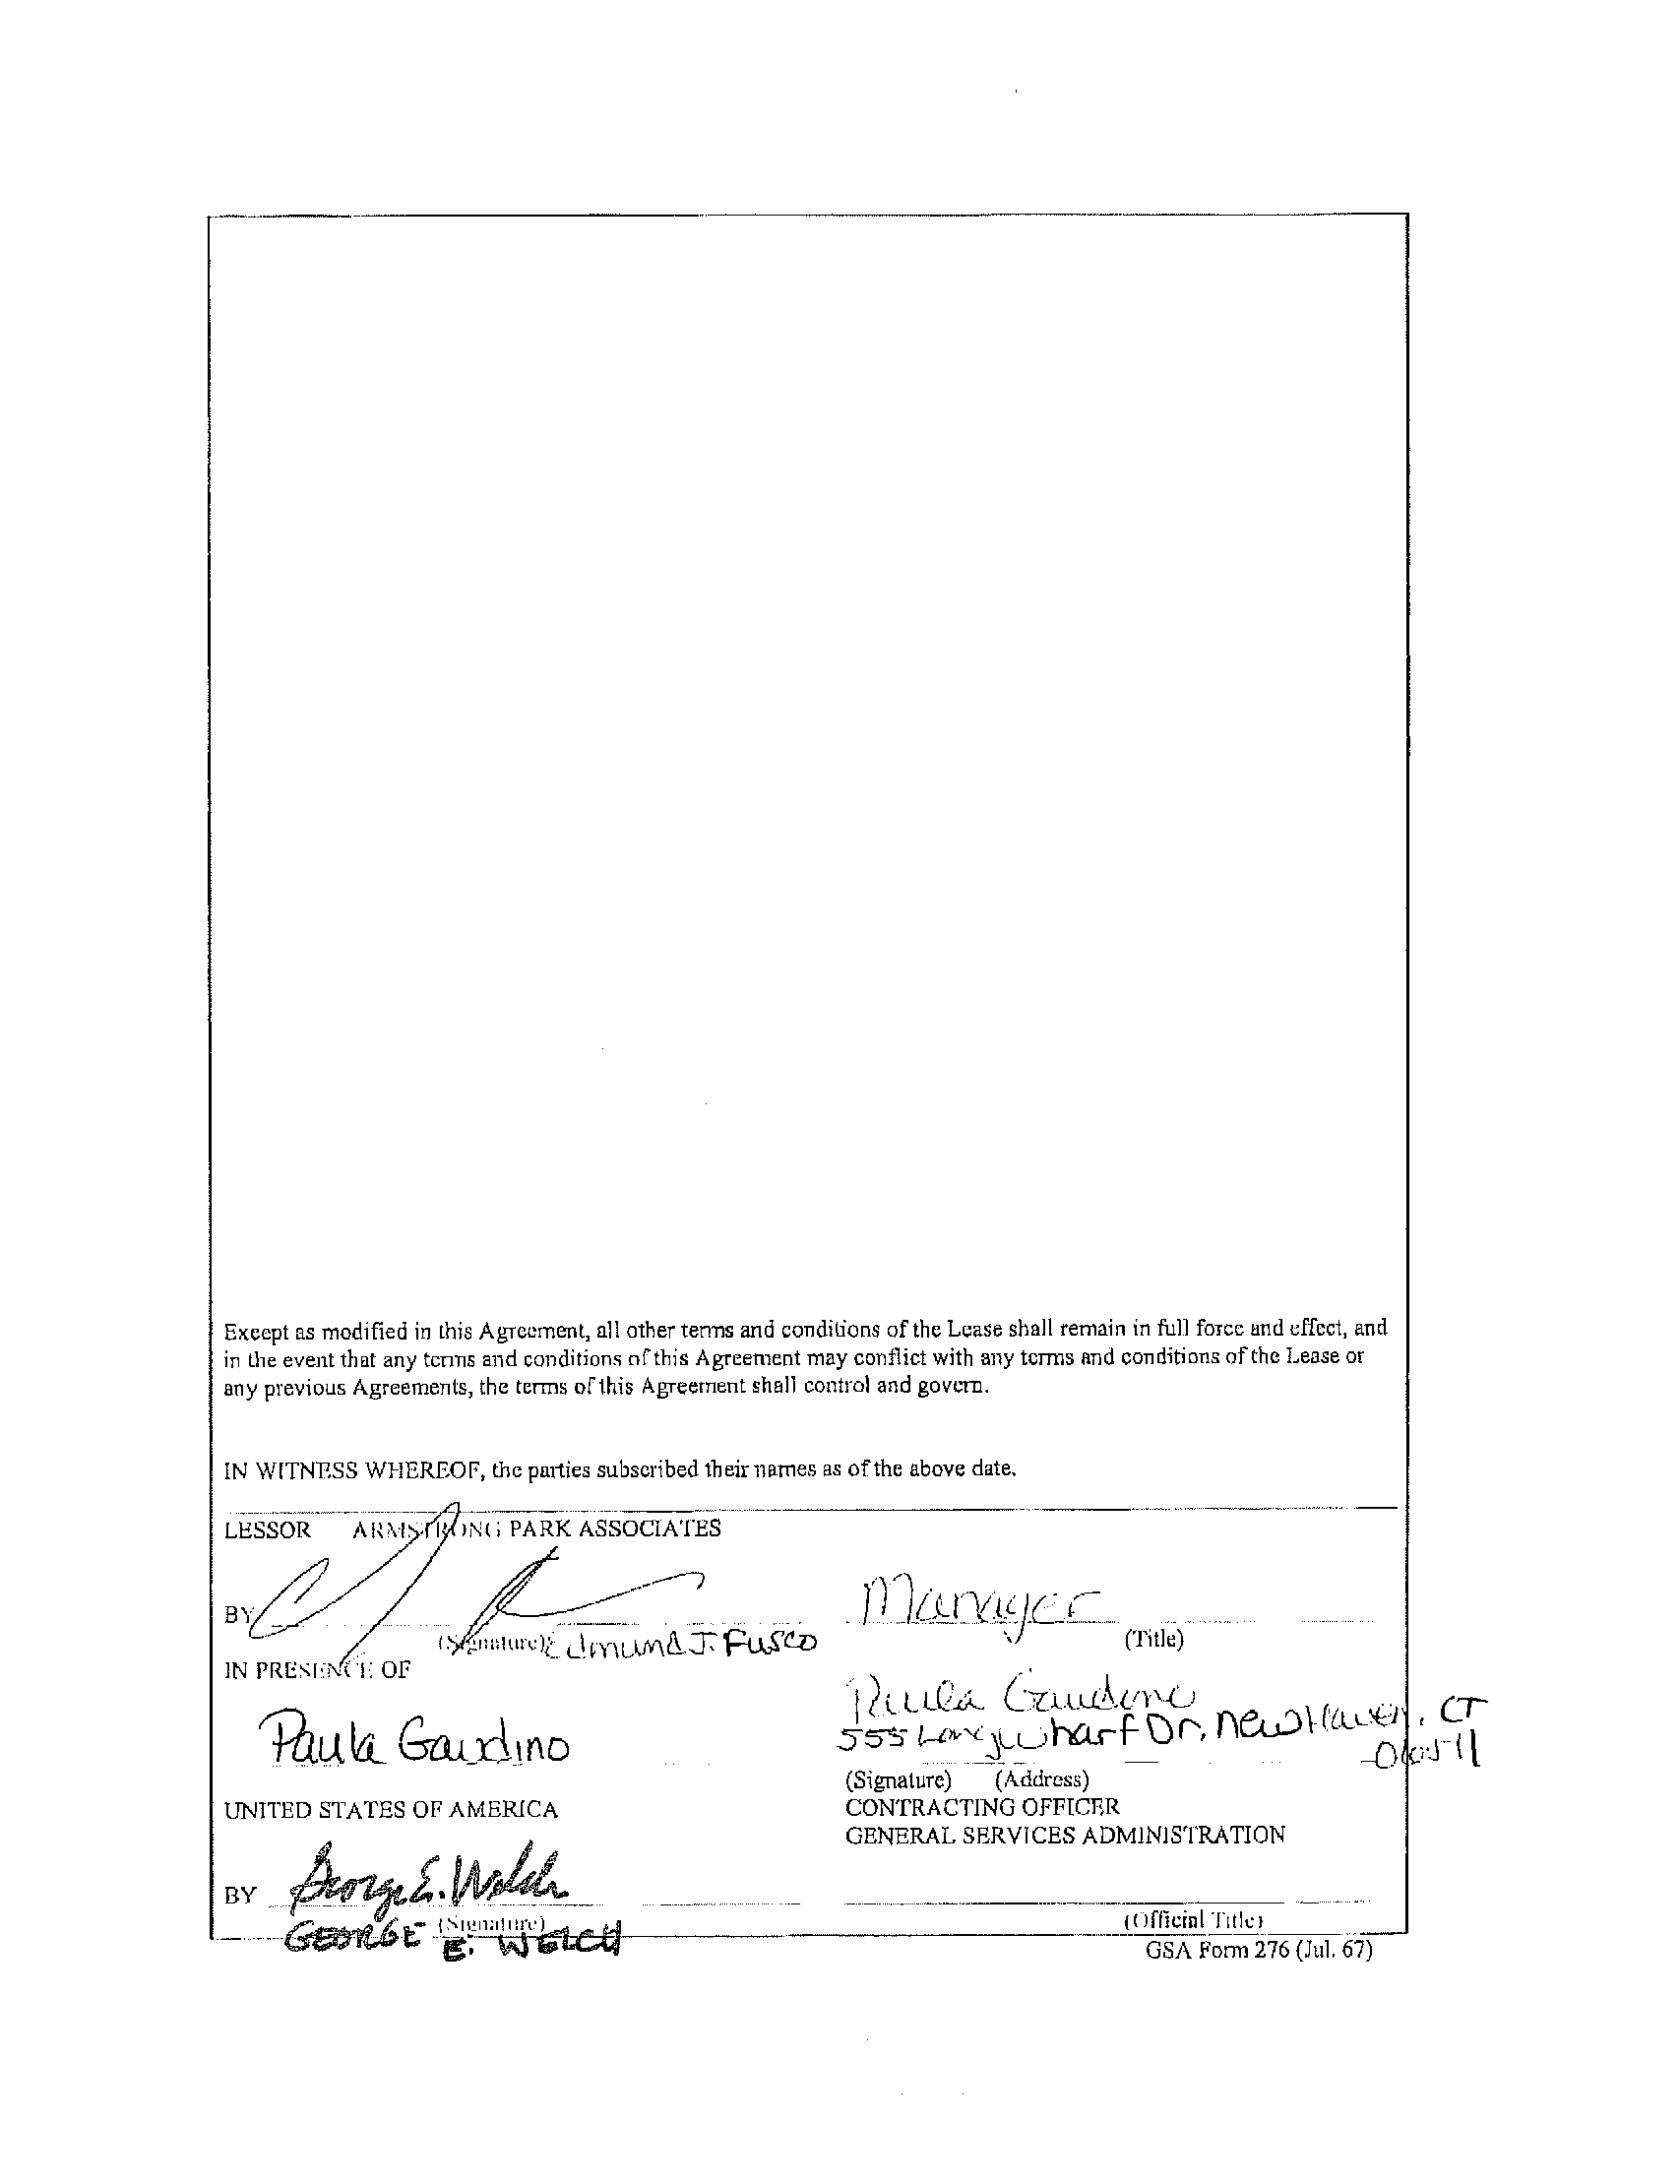handwritten: (833, 1660, 1489, 1771), (275, 1824, 646, 1969), (251, 1535, 743, 1630), (244, 1699, 595, 1778), (859, 1554, 1121, 1642), (556, 1628, 822, 1669)
